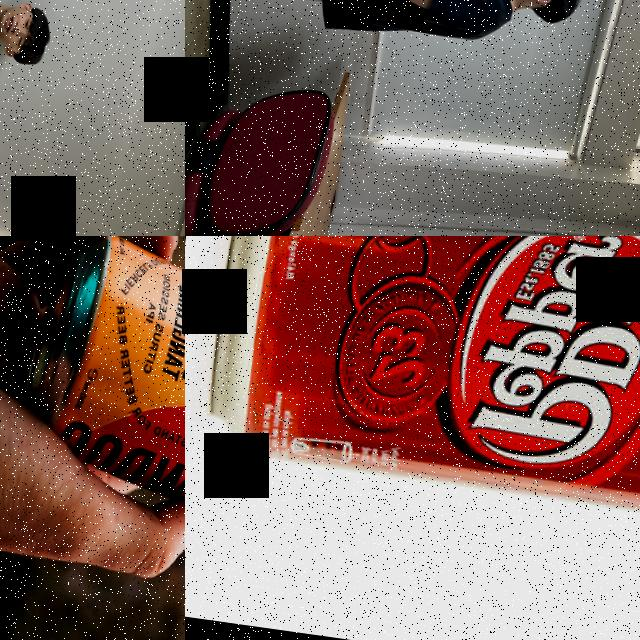can: (187, 236, 640, 530), (8, 236, 185, 540)
